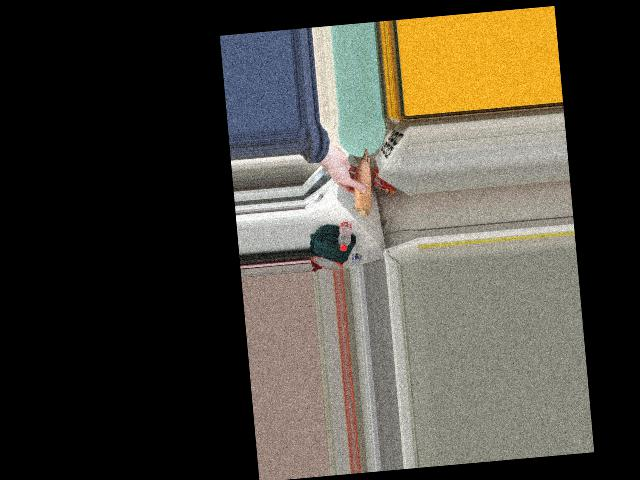sweet_potato: (349, 148, 379, 215)
